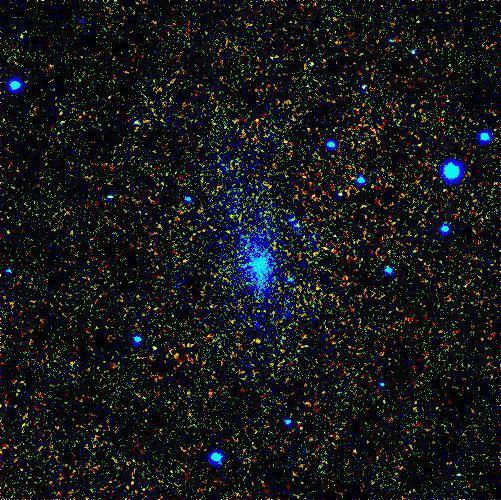star: (243, 325, 273, 355)
